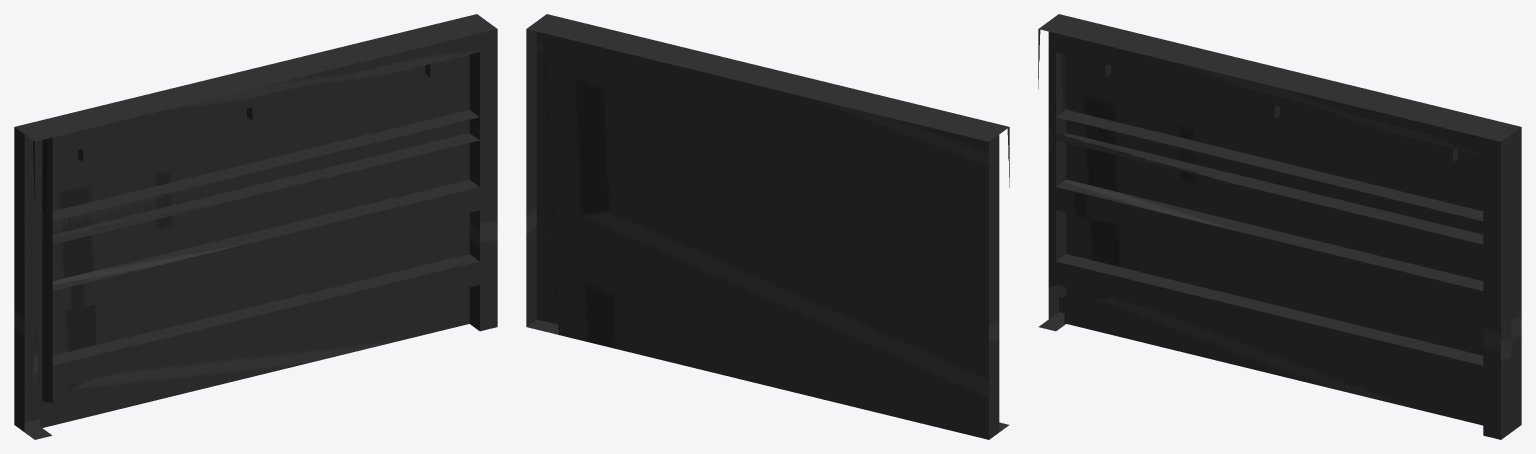
File: c70_right_end_board.obj
3 views of the same model, side by side, from view 1: azimuth 30°, elevation 25°; view 2: azimuth 150°, elevation 25°; view 3: azimuth 330°, elevation 25° (orthographic).
Visible parts, largest first — view 1: cube; view 2: cube; view 3: cube.
Boxes of the visible parts, bbox=[...] form: cube: bbox=[14, 14, 497, 439]; cube: bbox=[526, 14, 1009, 439]; cube: bbox=[1038, 14, 1521, 439].
Bounding box in the file's own units: 3.25 × 2 × 0.25.
